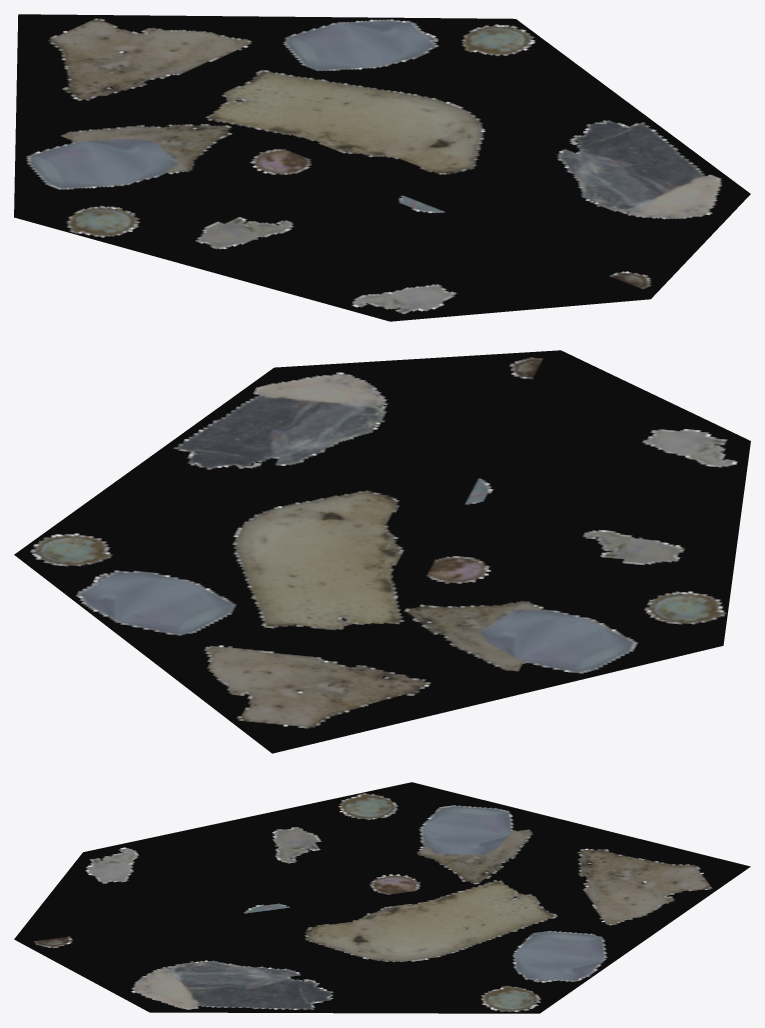
The model's file is SM_Debris_03.FBX.
3 renders of one model, top to bottom at view 1: azimuth 30°, elevation 25°; view 2: azimuth 150°, elevation 25°; view 3: azimuth 270°, elevation 25°, orthographic. The views are drawn at different scales.
Parts seen in each view (by area): view 1: SM_Debris_03; view 2: SM_Debris_03; view 3: SM_Debris_03.
Boxes of the visible parts, x1,y1,x2,y2 form: SM_Debris_03: [14, 14, 750, 321]; SM_Debris_03: [14, 350, 750, 753]; SM_Debris_03: [14, 782, 750, 1013].
Size of the model in its own units: 46.03 by 61.89 by 1.01e-05.
